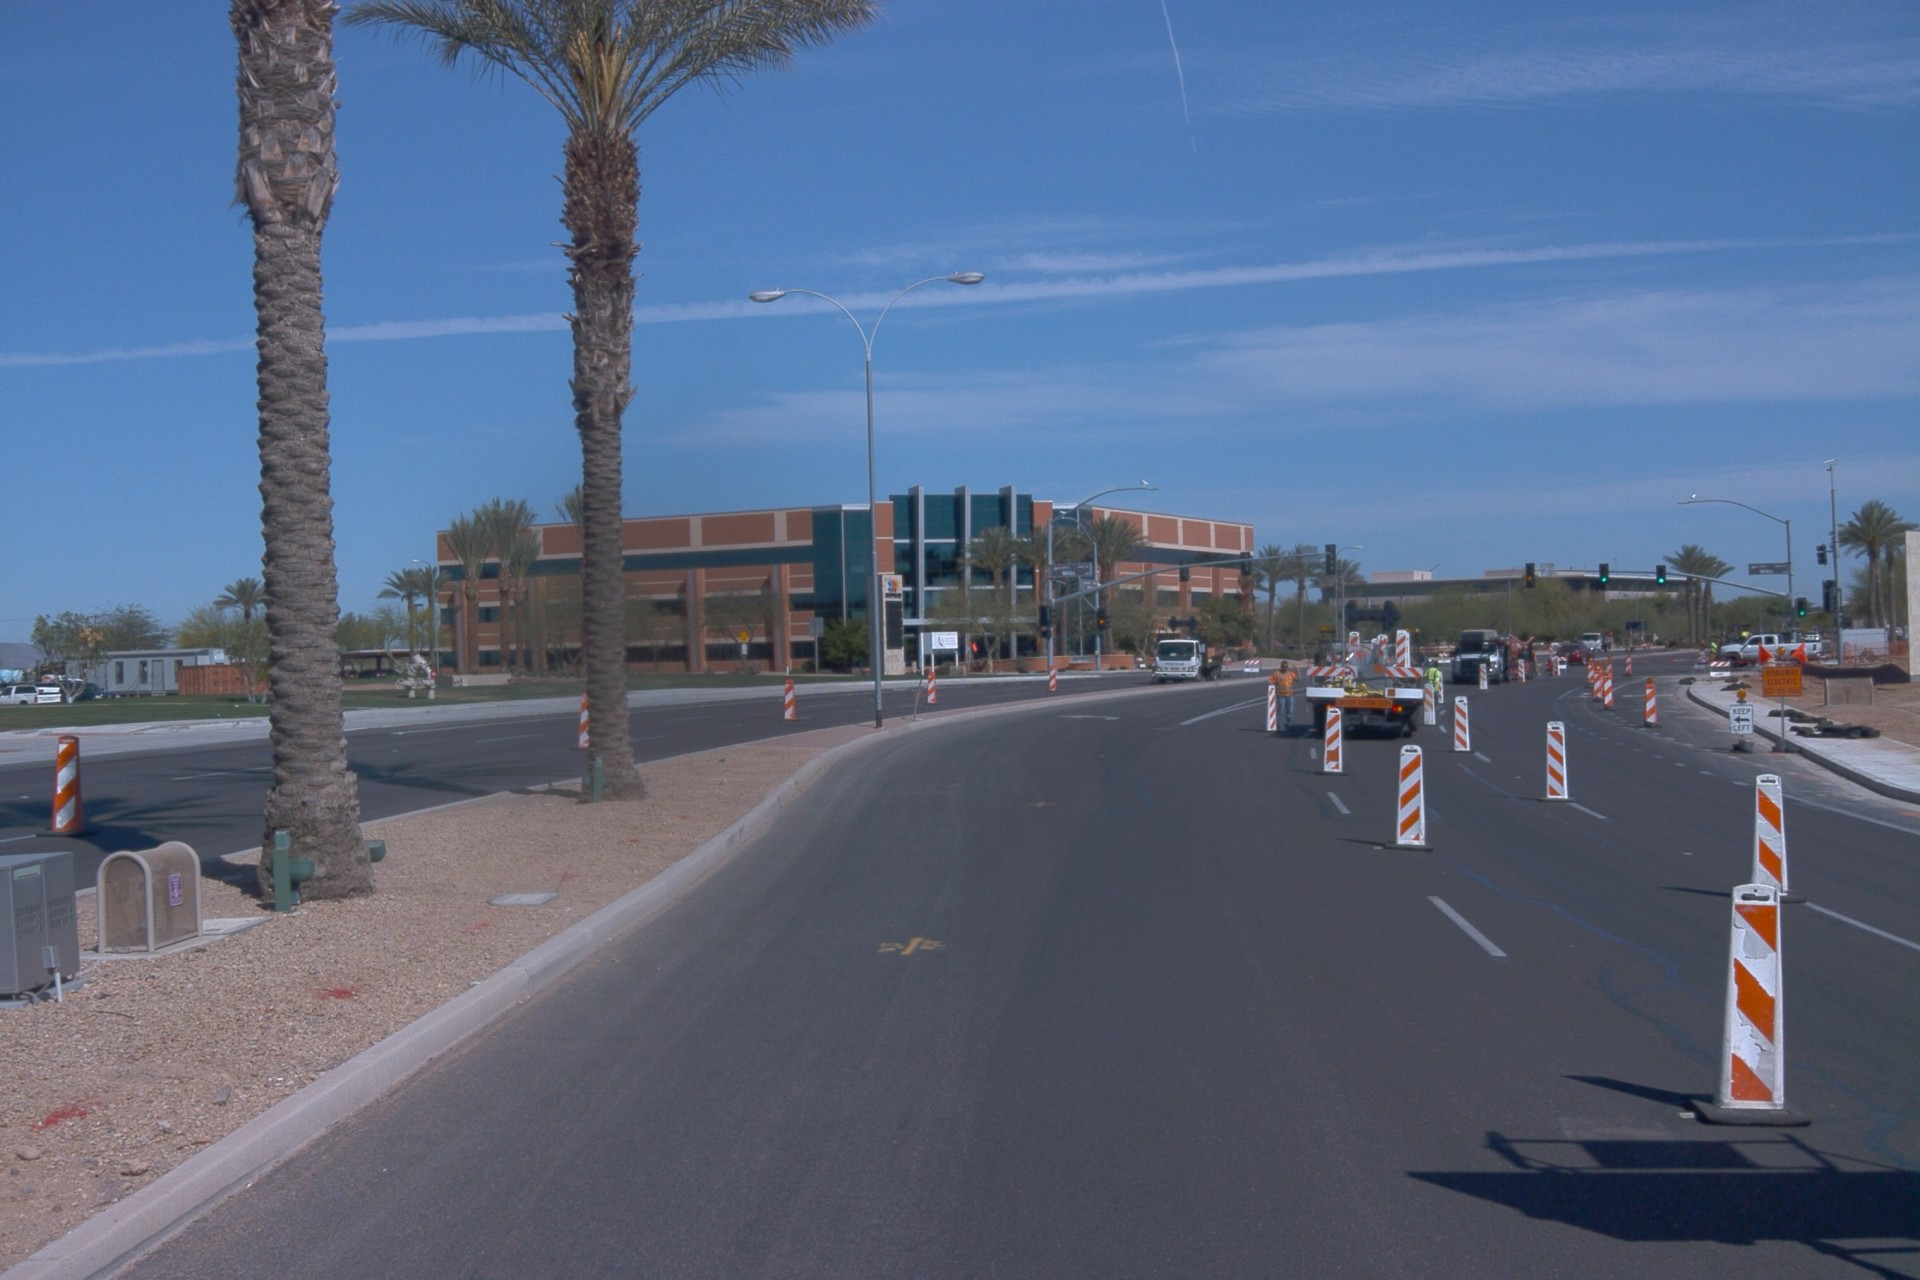TYPE_PEDESTRIAN: (1266, 661, 1301, 734), (1423, 659, 1442, 714)
TYPE_VEHICLE: (1296, 594, 1448, 747), (1448, 627, 1540, 686), (1714, 630, 1831, 671), (1145, 633, 1235, 686), (0, 681, 67, 710), (59, 678, 123, 708), (36, 677, 105, 699), (1553, 640, 1597, 669), (1582, 630, 1616, 654)
